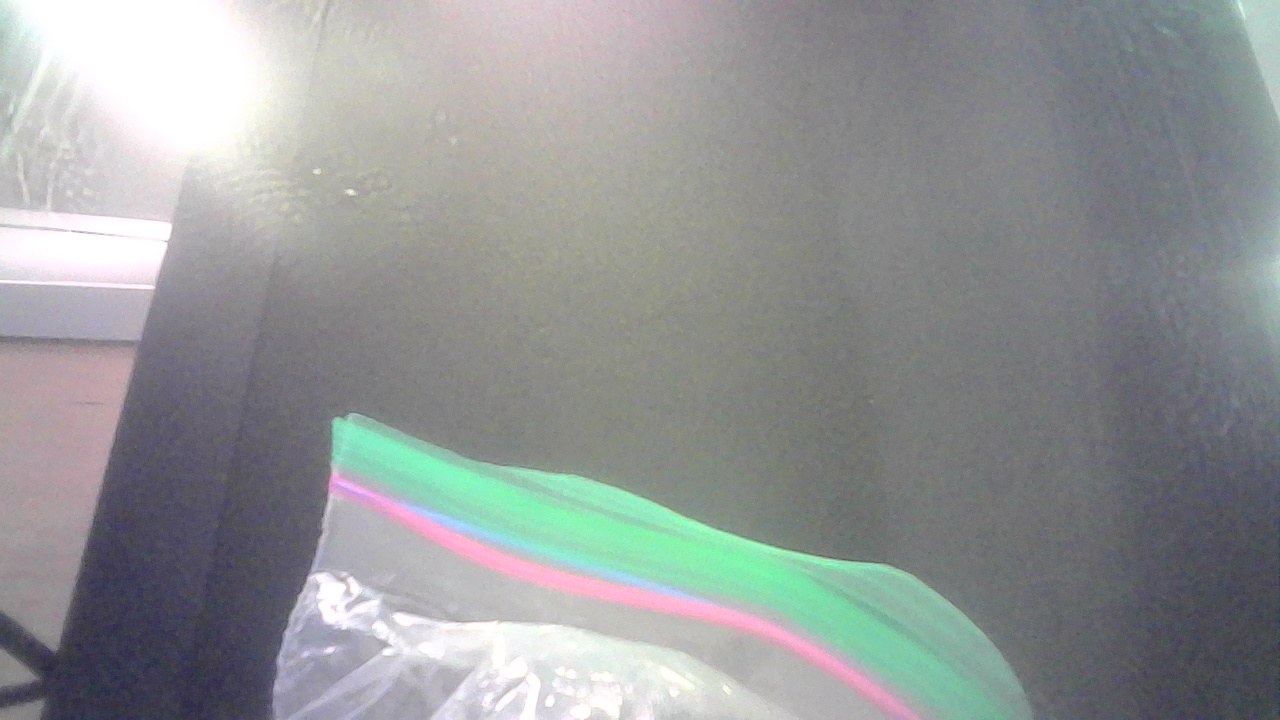Plastic_Recycling: (275, 404, 1042, 720)
